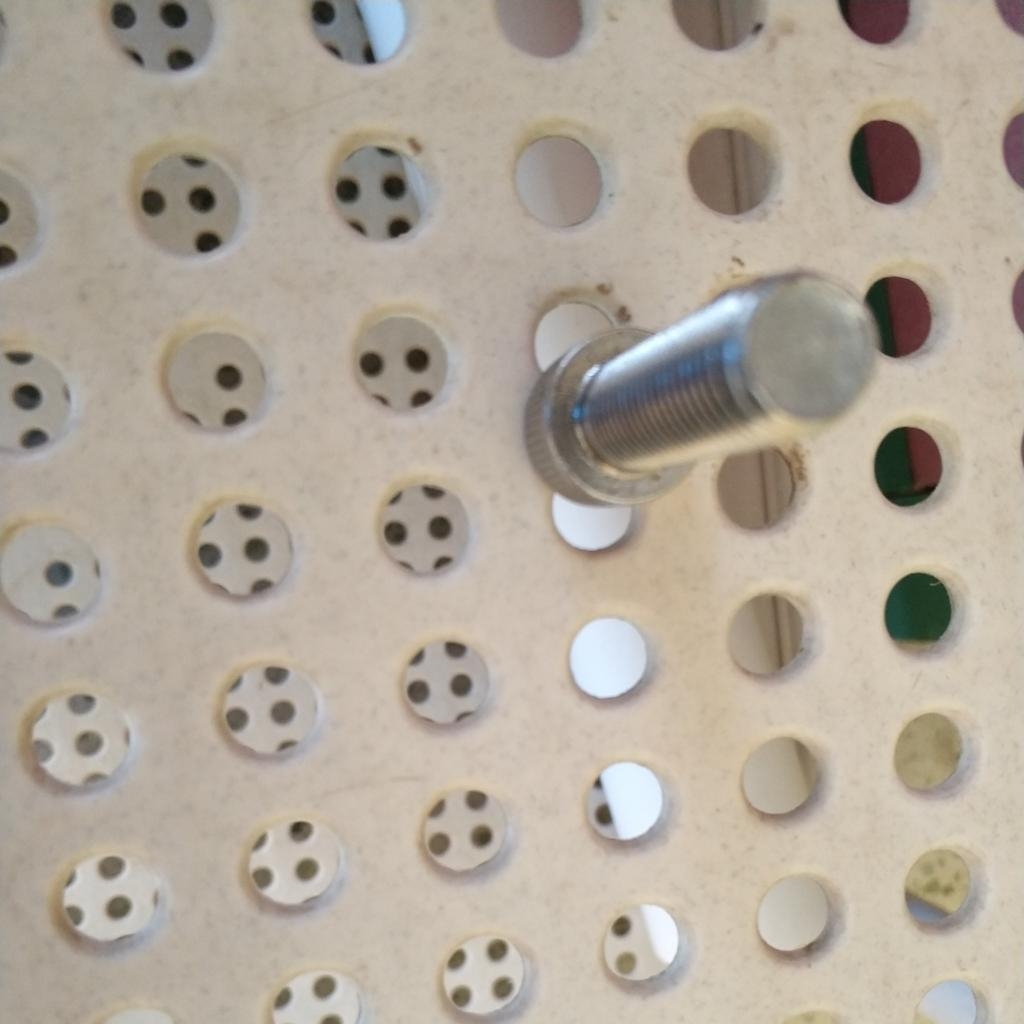screwtype1silver: (511, 271, 889, 506)
